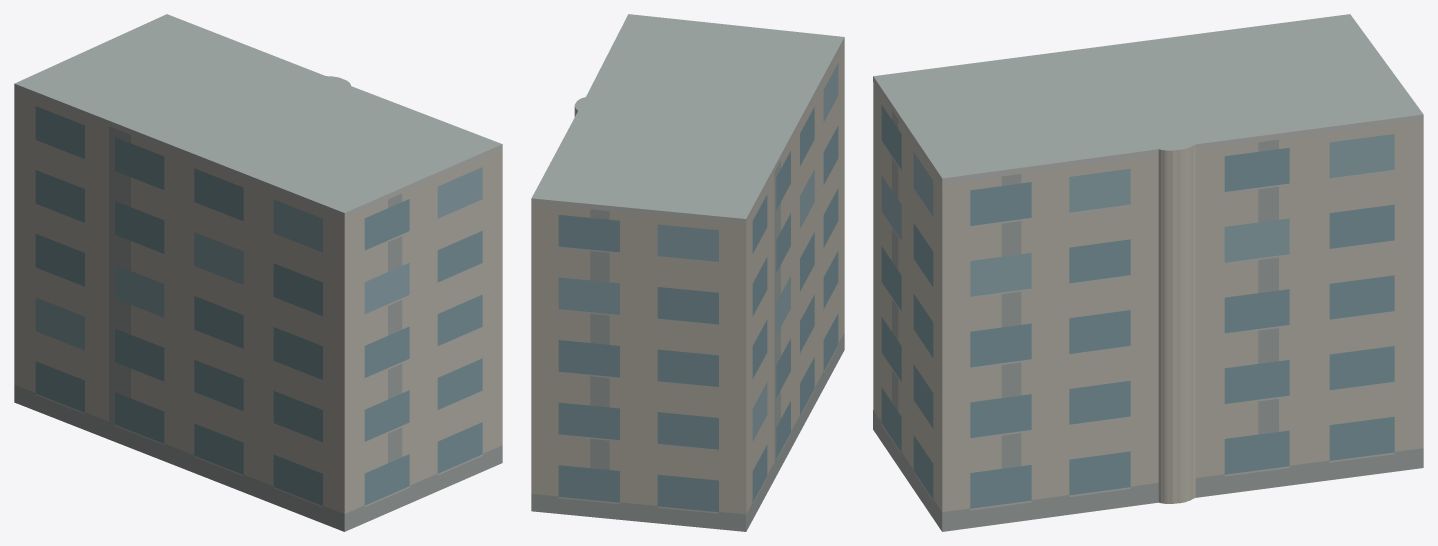
The model's file is survey-upis-32524363.glb.
3 views of the same model, side by side, from view 1: azimuth 30°, elevation 25°; view 2: azimuth 150°, elevation 25°; view 3: azimuth 270°, elevation 25° (orthographic). The views are drawn at different scales.
Visible parts, largest first — view 1: survey-upis-32524363.tmp; view 2: survey-upis-32524363.tmp; view 3: survey-upis-32524363.tmp.
Boxes of the visible parts, left/top/right/bottom form: survey-upis-32524363.tmp: left=14, top=14, right=502, bottom=531; survey-upis-32524363.tmp: left=531, top=14, right=844, bottom=531; survey-upis-32524363.tmp: left=873, top=14, right=1423, bottom=531.
Bounding box in the file's own units: 14.18 × 14.2 × 20.06.
